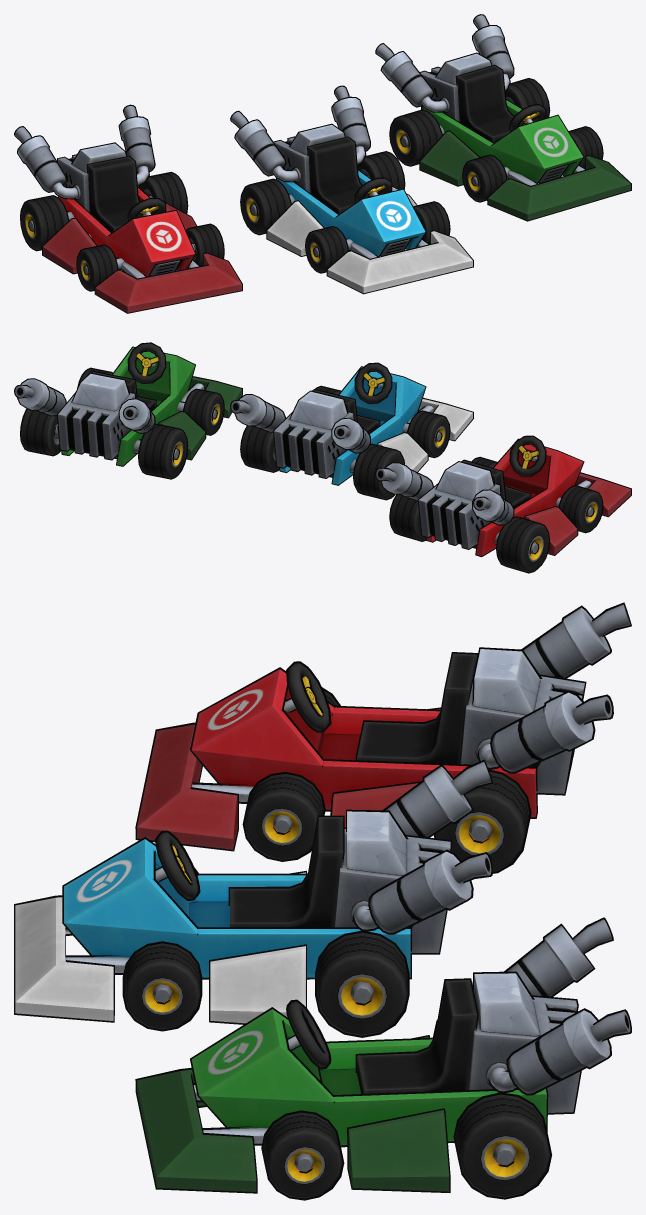
3 renders of one model, top to bottom at view 1: azimuth 30°, elevation 25°; view 2: azimuth 150°, elevation 25°; view 3: azimuth 270°, elevation 25°, orthographic. The views are drawn at different scales.
Parts seen in each view (by area): view 1: kart_a.006, kart_a.007, kart_a.008; view 2: kart_a.006, kart_a.008, kart_a.007; view 3: kart_a.008, kart_a.007, kart_a.006.
Boxes of the visible parts, bbox=[...] form: kart_a.006: bbox=[14, 104, 242, 313]; kart_a.007: bbox=[230, 85, 473, 294]; kart_a.008: bbox=[375, 14, 631, 221]; kart_a.006: bbox=[375, 435, 631, 573]; kart_a.008: bbox=[14, 342, 242, 479]; kart_a.007: bbox=[230, 362, 473, 500]; kart_a.008: bbox=[135, 917, 631, 1200]; kart_a.007: bbox=[14, 759, 492, 1037]; kart_a.006: bbox=[135, 602, 631, 873].
Bounding box in the file's own units: 825 × 144 × 473.
4 materials, 3 textured.
